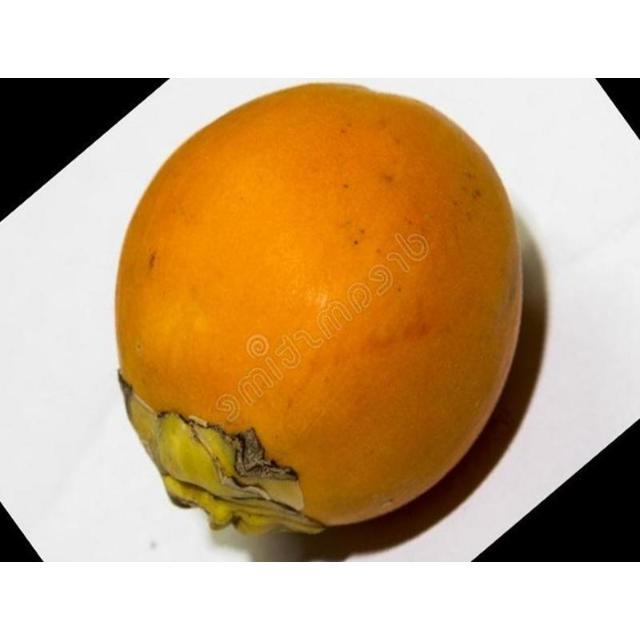good: (112, 84, 527, 541)
